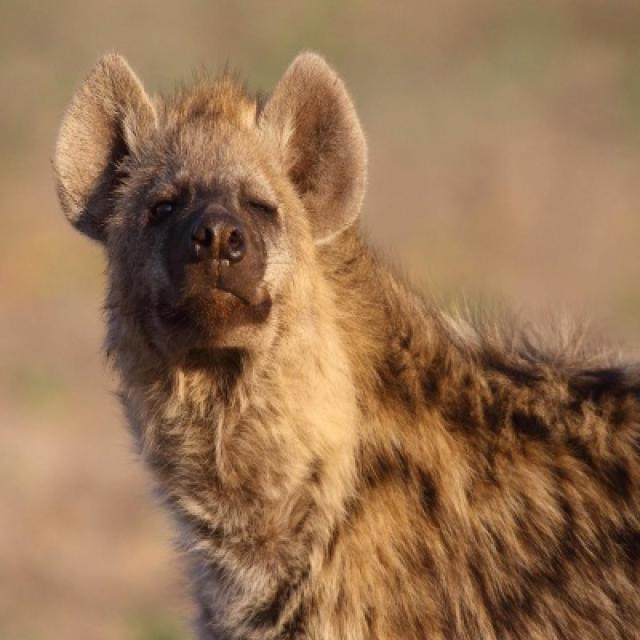hyena: (51, 50, 638, 638)
